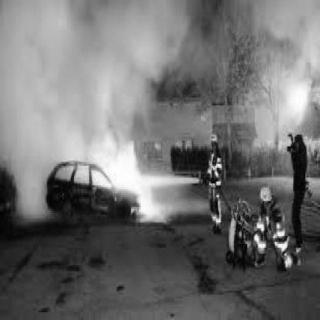Fire: (96, 140, 170, 228)
Smoke: (0, 0, 104, 197)
other: (288, 77, 311, 115)
